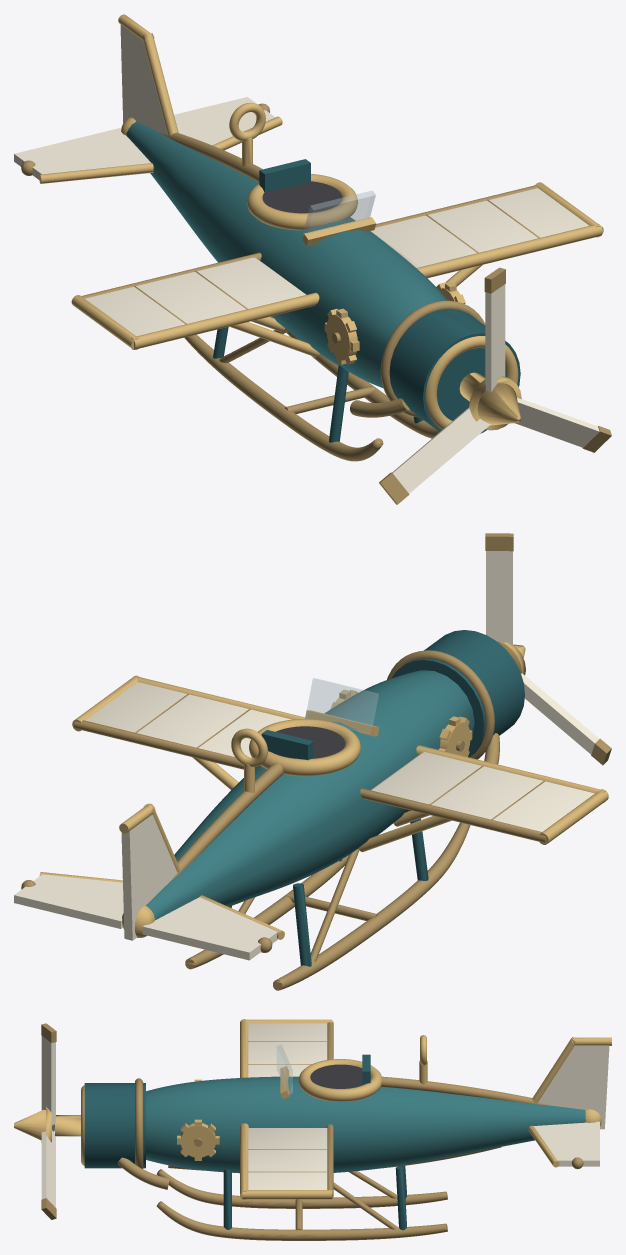
Rendered from clockwork-glider.glb.
The picture shows the model from 3 angles, top to bottom: view 1: azimuth 30°, elevation 25°; view 2: azimuth 150°, elevation 25°; view 3: azimuth 270°, elevation 25°; orthographic projection. The views are drawn at different scales.
Visible parts, largest first — view 1: GliderBody__IvoryFabric, GliderBody__TealSteel, GliderBody__AgedBrass, GliderBody__DarkBrass, GliderBody__TealDark, Propeller__IvoryFabric, Propeller__AgedBrass, GliderBody__DarkInner, GliderBody__Windscreen, Propeller__DarkBrass; view 2: GliderBody__IvoryFabric, GliderBody__TealSteel, GliderBody__DarkBrass, GliderBody__AgedBrass, GliderBody__TealDark, Propeller__IvoryFabric, GliderBody__Windscreen, GliderBody__DarkInner, Propeller__DarkBrass; view 3: GliderBody__TealSteel, GliderBody__IvoryFabric, GliderBody__DarkBrass, GliderBody__AgedBrass, GliderBody__TealDark, Propeller__IvoryFabric, Propeller__AgedBrass, GliderBody__DarkInner, GliderBody__Windscreen, Propeller__DarkBrass.
Boxes of the visible parts, <box> form: GliderBody__IvoryFabric: <box>14,24,589,336</box>; GliderBody__TealSteel: <box>126,121,447,387</box>; GliderBody__AgedBrass: <box>39,14,603,429</box>; GliderBody__DarkBrass: <box>21,103,539,461</box>; GliderBody__TealDark: <box>213,159,520,442</box>; Propeller__IvoryFabric: <box>392,284,599,493</box>; Propeller__AgedBrass: <box>459,372,521,430</box>; GliderBody__DarkInner: <box>262,181,342,213</box>; GliderBody__Windscreen: <box>303,190,375,234</box>; Propeller__DarkBrass: <box>379,267,611,504</box>; GliderBody__IvoryFabric: <box>14,682,594,960</box>; GliderBody__TealSteel: <box>146,670,474,919</box>; GliderBody__DarkBrass: <box>21,650,545,990</box>; GliderBody__AgedBrass: <box>39,675,608,939</box>; GliderBody__TealDark: <box>229,630,524,966</box>; Propeller__IvoryFabric: <box>486,551,599,754</box>; GliderBody__Windscreen: <box>305,678,378,733</box>; GliderBody__DarkInner: <box>275,726,345,758</box>; Propeller__DarkBrass: <box>485,533,611,765</box>; GliderBody__TealSteel: <box>146,1076,585,1173</box>; GliderBody__IvoryFabric: <box>248,1023,609,1189</box>; GliderBody__DarkBrass: <box>117,1021,583,1240</box>; GliderBody__AgedBrass: <box>81,1019,611,1199</box>; GliderBody__TealDark: <box>84,1054,406,1230</box>; Propeller__IvoryFabric: <box>41,1036,55,1207</box>; Propeller__AgedBrass: <box>14,1107,80,1142</box>; GliderBody__DarkInner: <box>310,1064,362,1088</box>; GliderBody__Windscreen: <box>277,1045,292,1094</box>; Propeller__DarkBrass: <box>41,1023,56,1219</box>.
Size of the model in its own units: 1.38 by 0.7254 by 2.
